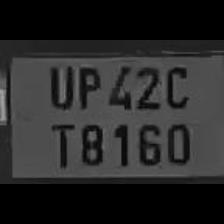0: (162, 118, 192, 166)
1: (108, 118, 132, 168)
2: (130, 60, 160, 110)
4: (104, 59, 134, 111)
6: (132, 118, 162, 168)
8: (74, 119, 104, 167)
C: (162, 61, 190, 112)
P: (74, 61, 102, 112)
T: (46, 119, 74, 167)
U: (46, 60, 74, 110)
